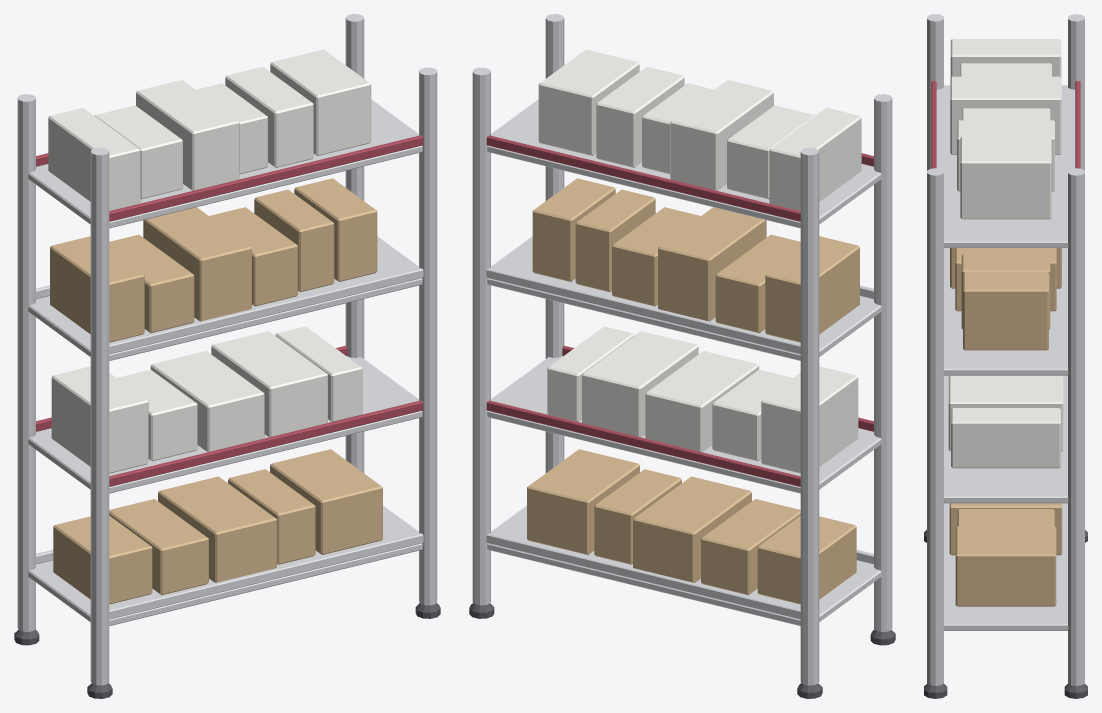
The model's file is butchers-shop-and-deli-counter-chiller-shelving-unit-fa5d5c4d__34459.glb.
3 views of the same model, side by side, from view 1: azimuth 30°, elevation 25°; view 2: azimuth 150°, elevation 25°; view 3: azimuth 270°, elevation 25° (orthographic). The views are drawn at different scales.
Visible parts, largest first — view 1: chiller-shelving-unit; view 2: chiller-shelving-unit; view 3: chiller-shelving-unit.
Boxes of the visible parts, box(x1,y1,x2,y2) form: chiller-shelving-unit: box(14, 14, 440, 698); chiller-shelving-unit: box(469, 14, 895, 698); chiller-shelving-unit: box(924, 14, 1087, 698).
Size of the model in its own units: 1.22 by 1.8 by 0.5123.
